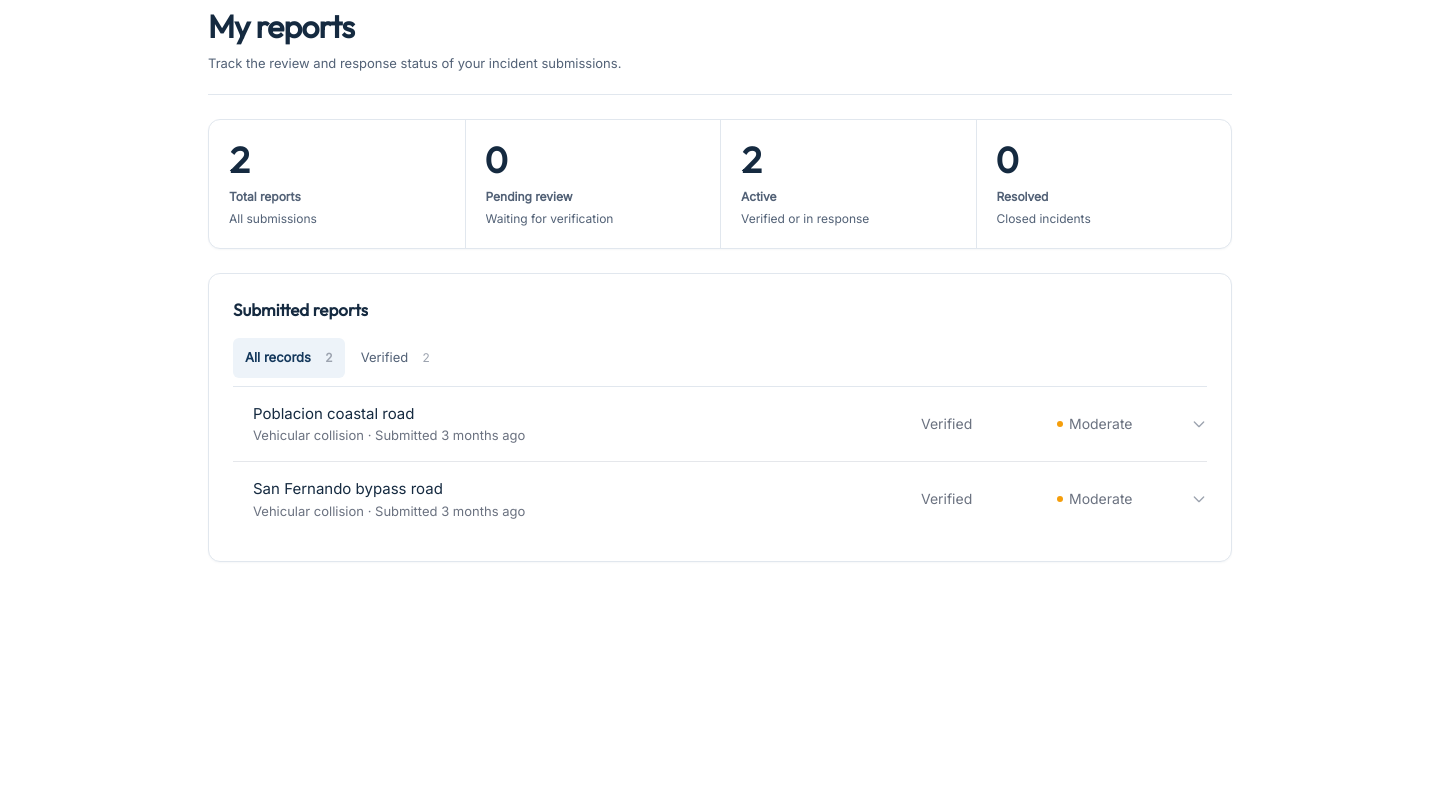
it: reporter situation update flow › switches expanded state and active styling cleanly when clicking a different report
The image size is (1440, 794).
Expand first report: header 0 accented, header 1 neutral
Click the heading "Poblacion coastal road".
click(334, 413)  # box x1=253 y1=404 x2=414 y2=423
(page scrolled)
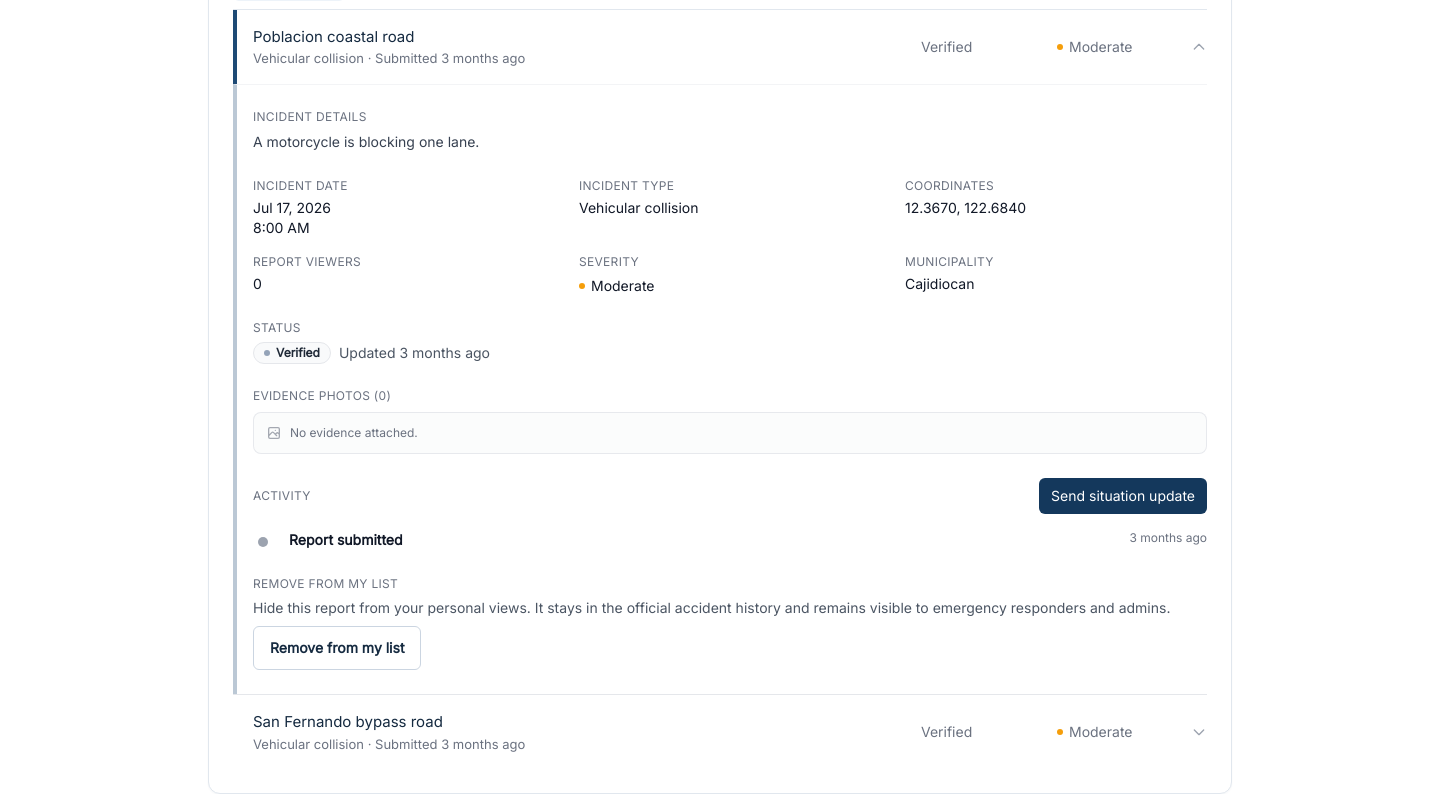
expect the text "Two tricycles collided near the intersection." is not shown: met
expect the text "A motorcycle is blocking one lane." is shown: met, box x1=253 y1=133 x2=479 y2=150
Switch and expand second report: header 1 accented, header 0 returns to neutral
Click the heading "San Fernando bypass road".
click(348, 722)  # box x1=253 y1=712 x2=443 y2=731
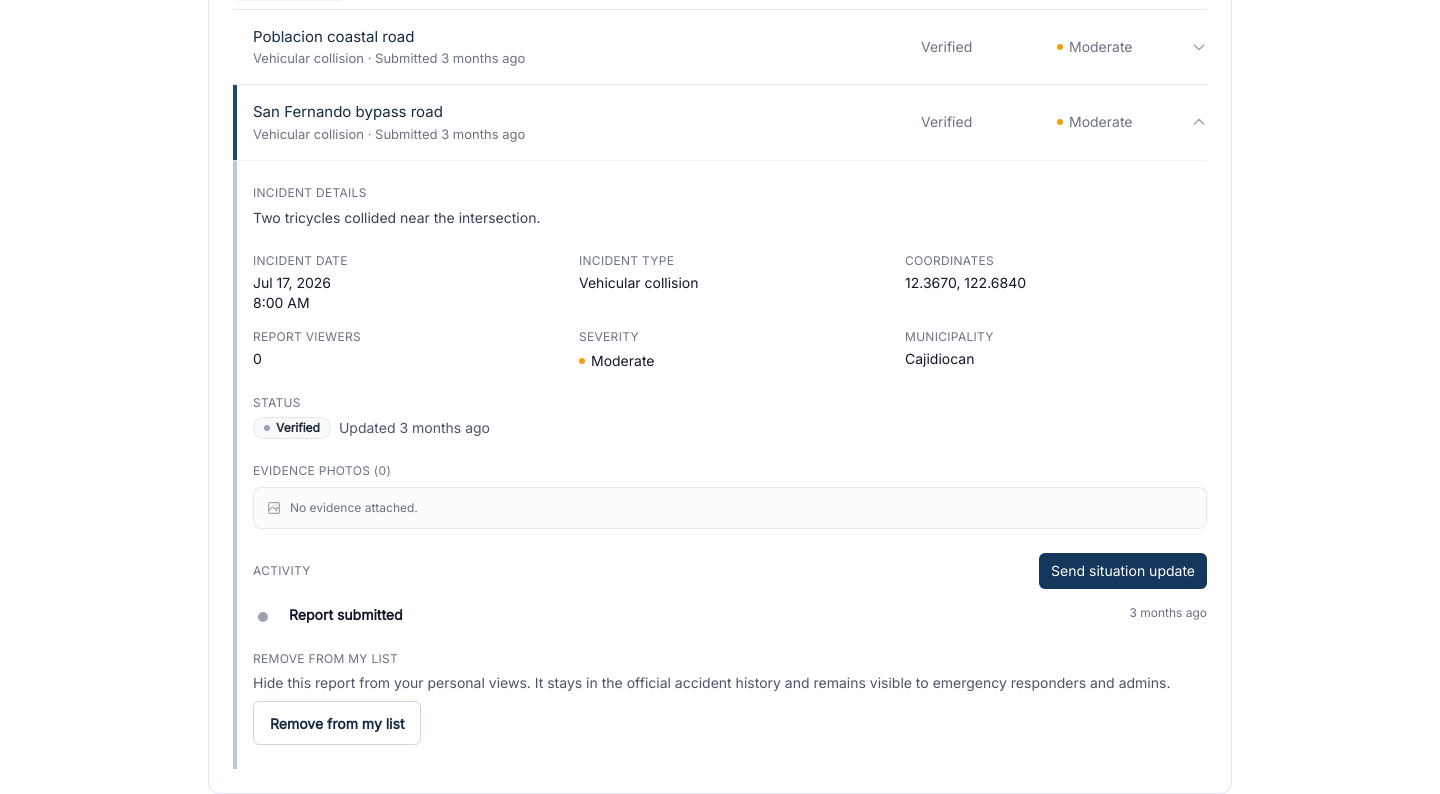
expect the text "Two tricycles collided near the intersection." is shown: met, box x1=253 y1=209 x2=540 y2=226
expect the text "A motorcycle is blocking one lane." is gone: met
Click second report again to collapse: both neutral
Click the heading "San Fernando bypass road".
click(348, 112)  # box x1=253 y1=102 x2=443 y2=121
(page scrolled)
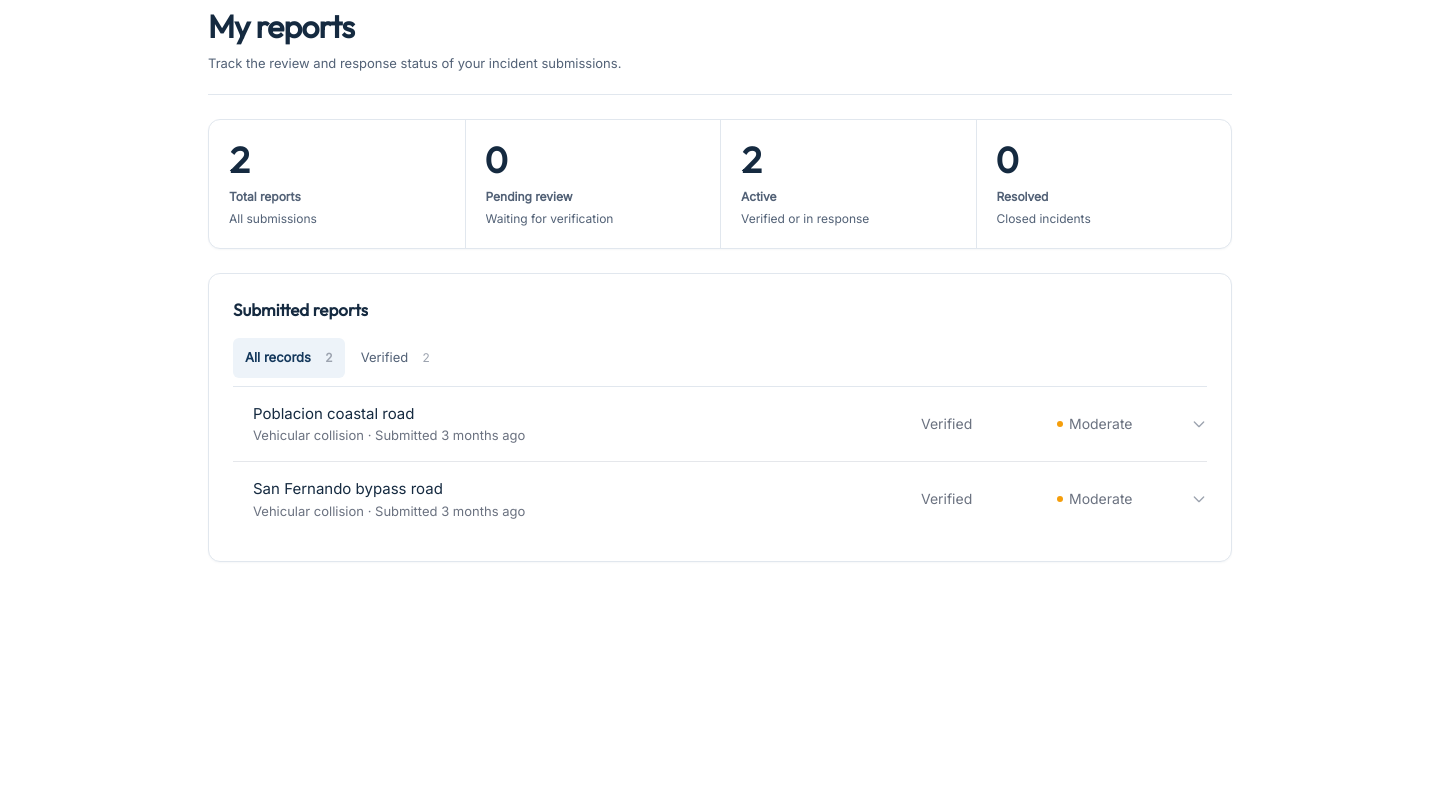
expect the text "Two tricycles collided near the intersection." is gone: met
